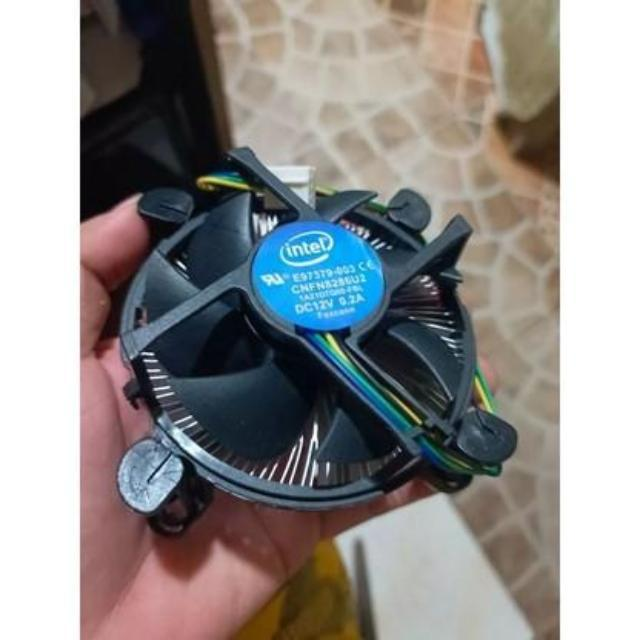CPU_Fan: (137, 184, 500, 506)
